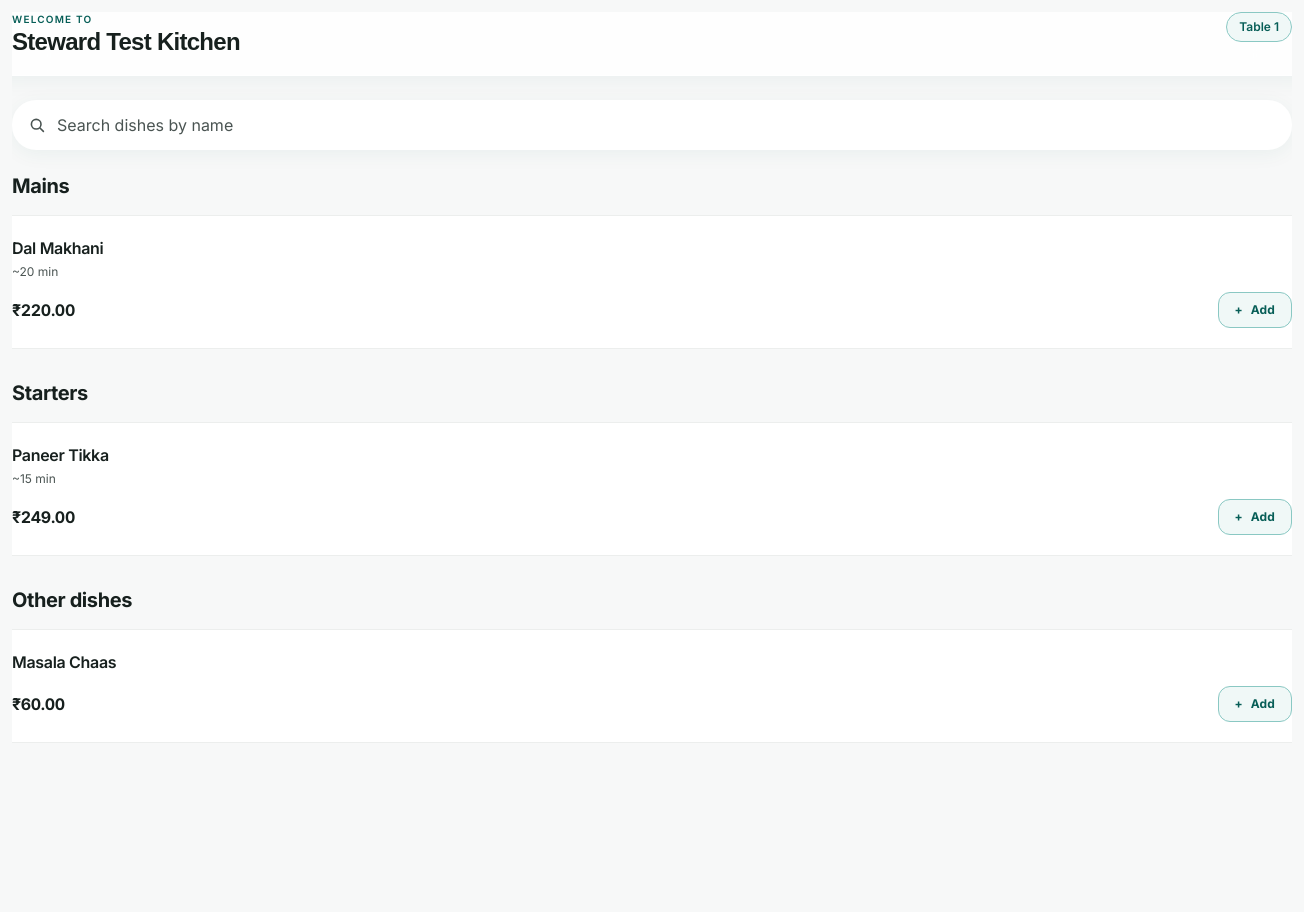
Test case: the cart on the menu › adds a dish, then shows how many are in the cart and the server cart summary
Click the button with aria-label "Add Dal Makhani". click: [1255, 310]
box: [1218,292,1292,328]
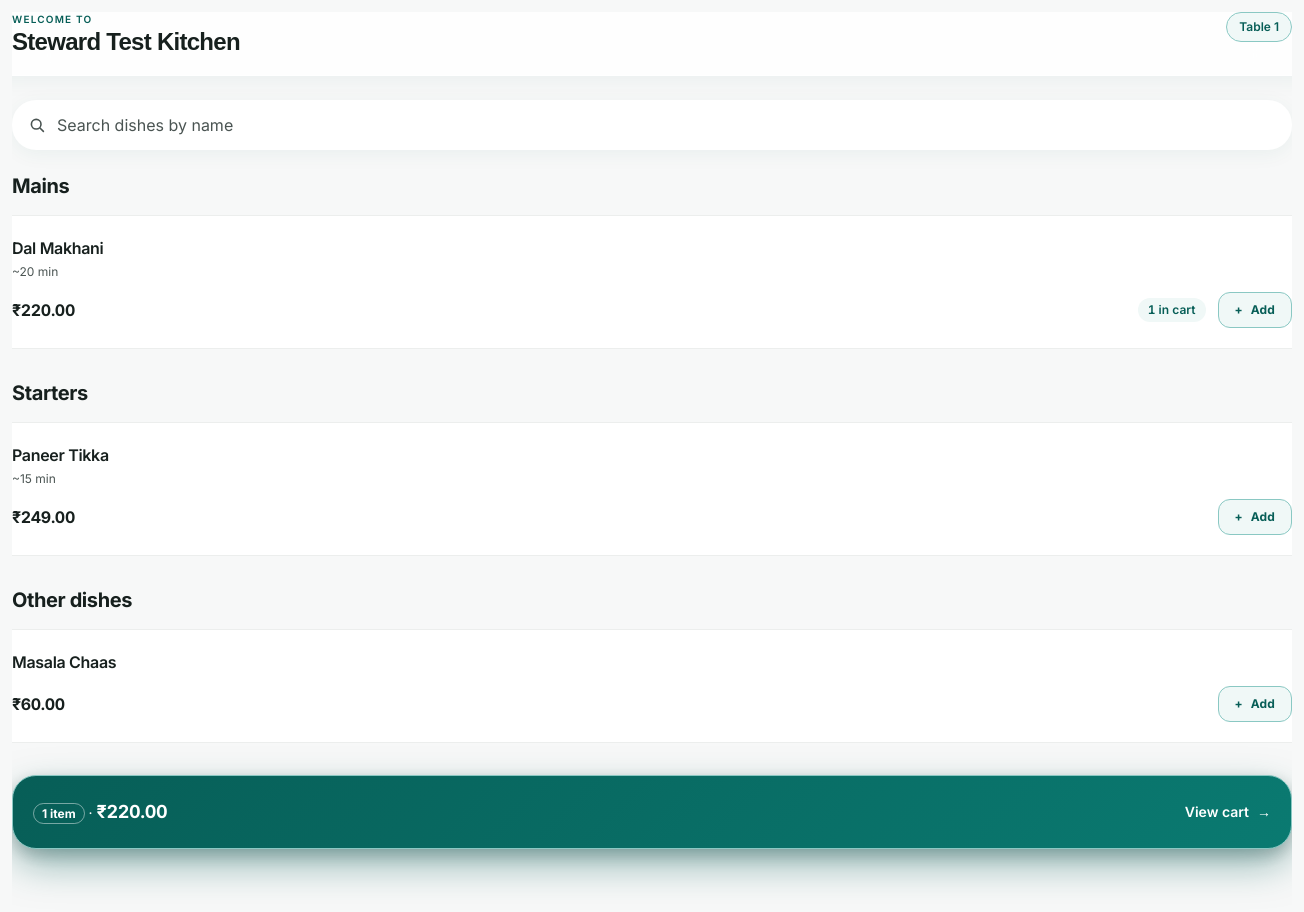
Now the element named "Your cart" shows "1 item · ₹220.00", box [12,775,1292,849]
Note: Add again adds to the line without instructions.
Click the button with aria-label "Add Dal Makhani". click: [1255, 310]
box: [1218,292,1292,328]
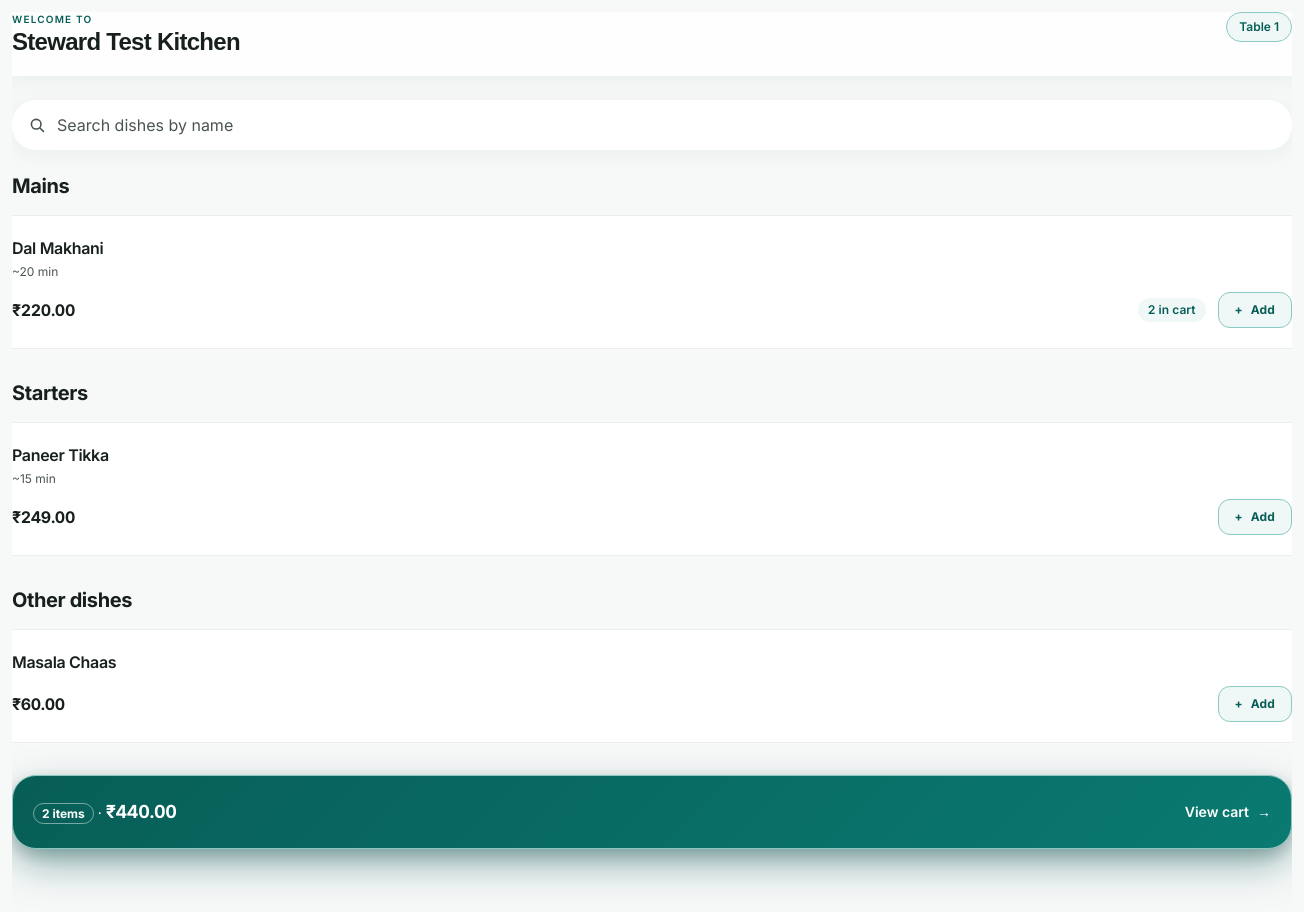
Now the element named "Your cart" shows "2 items · ₹440.00", box [12,775,1292,849]
Click the button with aria-label "Add Masala Chaas". click: [1255, 704]
box: [1218,686,1292,722]
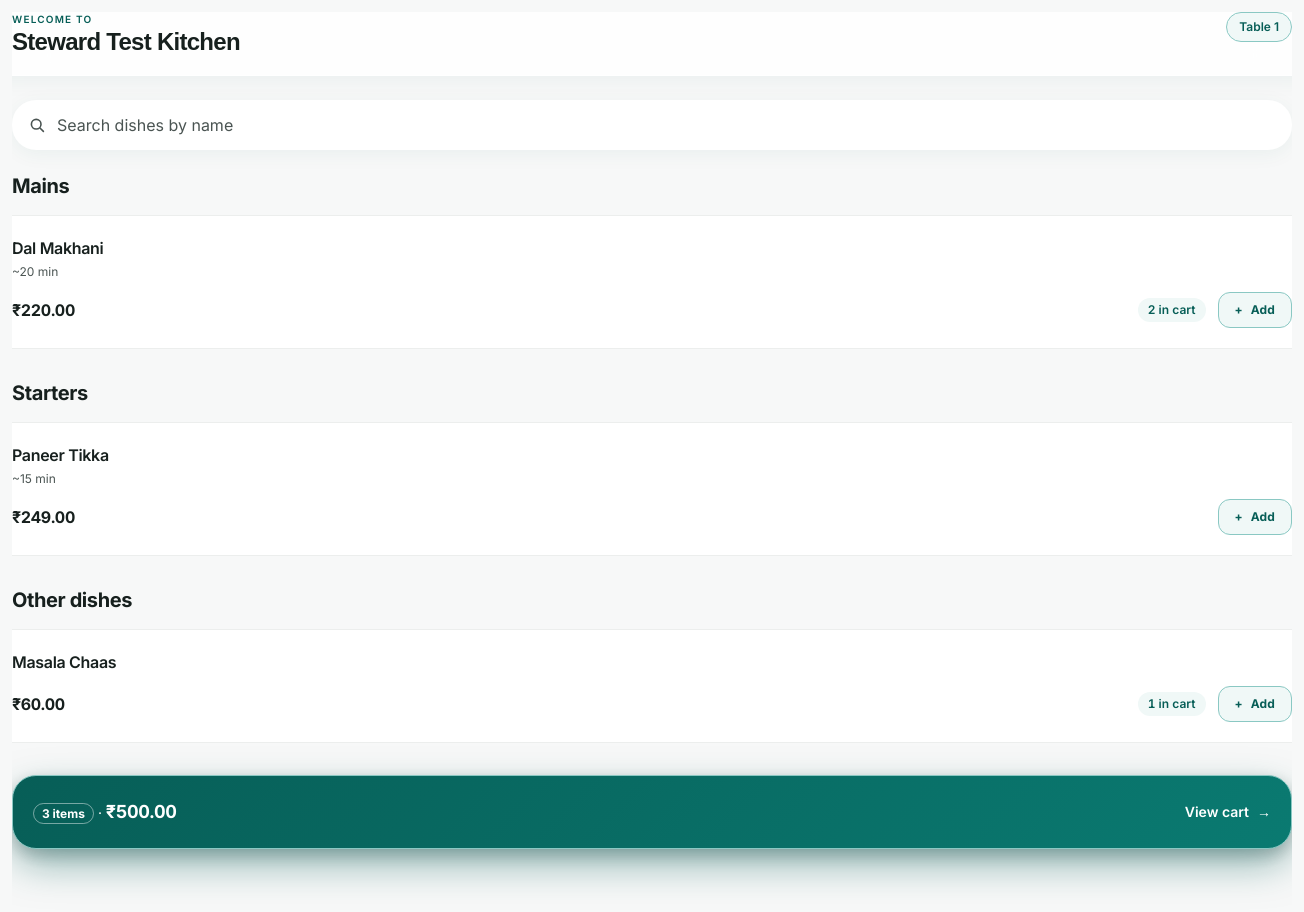
Now the element named "Your cart" shows "3 items · ₹500.00", box [12,775,1292,849]
